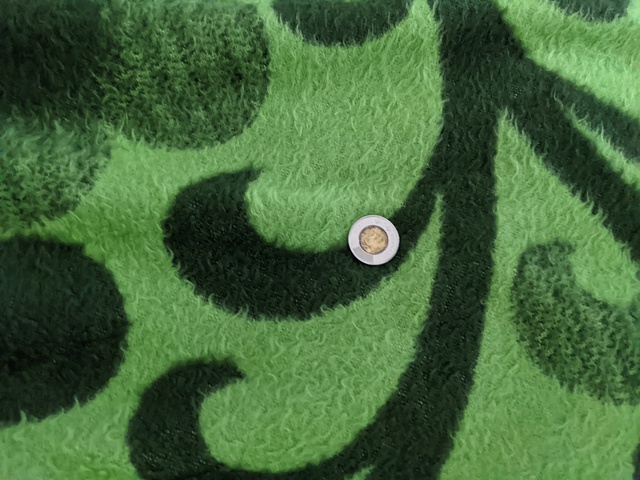twonie: (343, 209, 407, 270)
